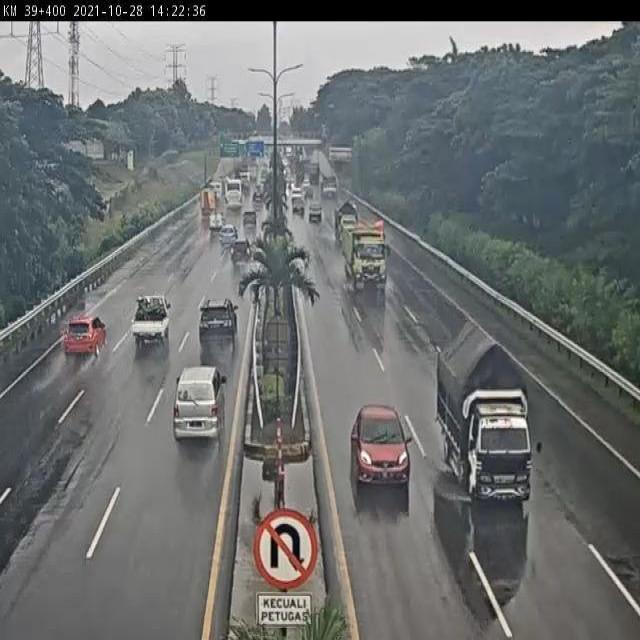car: (349, 405, 412, 488), (174, 365, 225, 440), (128, 294, 173, 349), (199, 296, 238, 344), (65, 315, 109, 356), (229, 239, 252, 265), (218, 224, 239, 251)
truck-l-: (341, 220, 390, 292)
truck-m-: (435, 318, 538, 506)
truck-s-: (207, 210, 226, 234)
